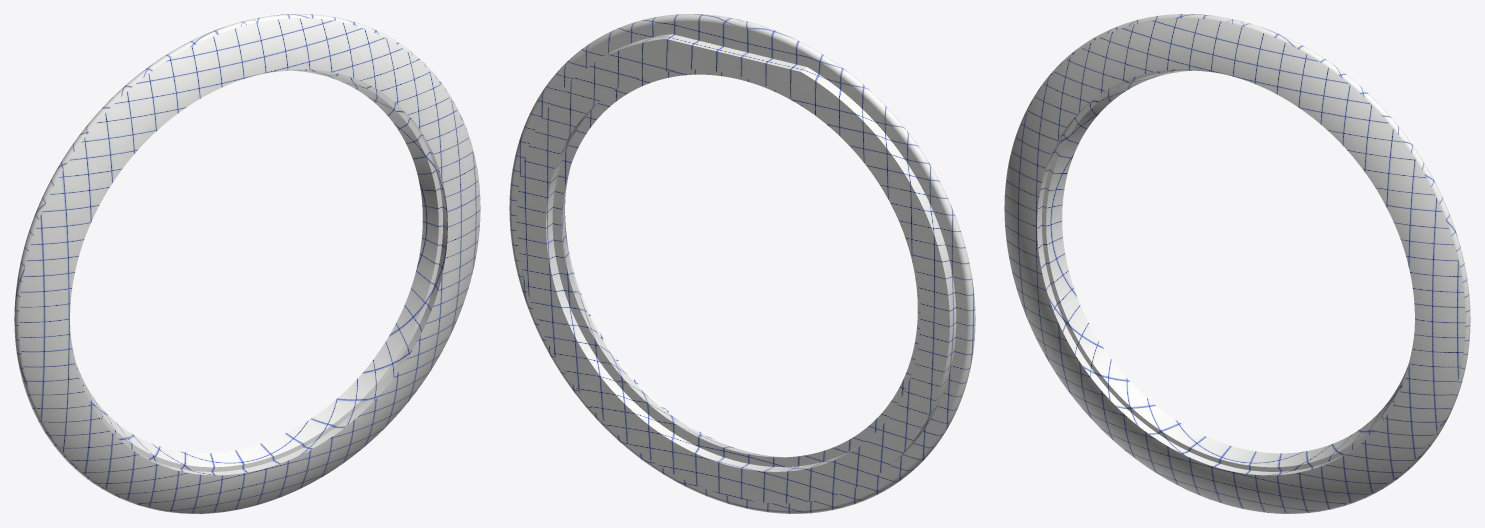
Rendered from lunette.glb.
The picture shows the model from 3 angles, left to right: view 1: azimuth 30°, elevation 25°; view 2: azimuth 150°, elevation 25°; view 3: azimuth 330°, elevation 25°; orthographic projection.
Visible parts, largest first — view 1: lunette-top, lunette-bottom; view 2: lunette-bottom; view 3: lunette-top, lunette-bottom.
Part boxes in pixels (x1,y1,x2,y2): lunette-top: (19,18,479,512); lunette-bottom: (14,14,480,513); lunette-bottom: (509,14,975,513); lunette-top: (1005,18,1465,512); lunette-bottom: (1004,14,1470,513).
Bounding box in the file's own units: 5.36 × 5.36 × 0.4144.
Materials: 1 (1 with a texture image).
